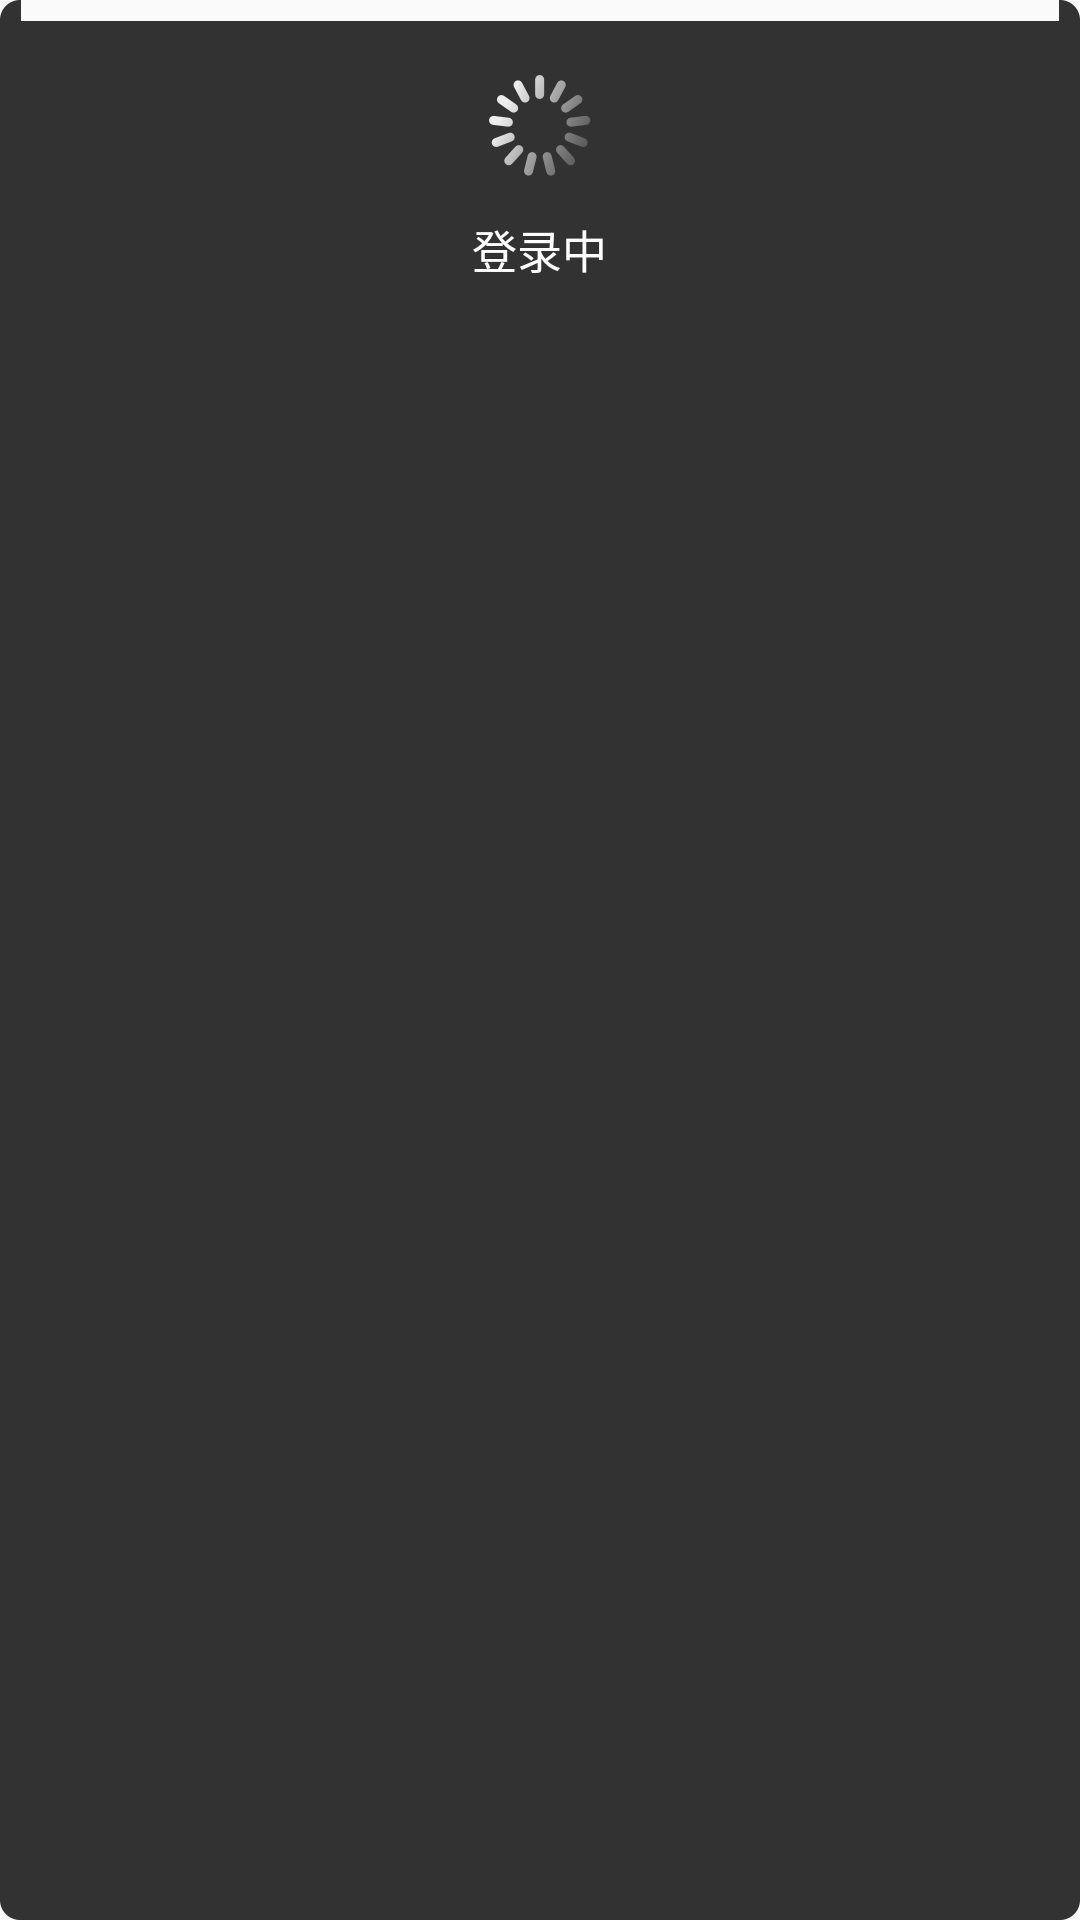

Icon click points for this 1080px×1920px phone screenshot, format (x,y):
login loading: (539,125)
